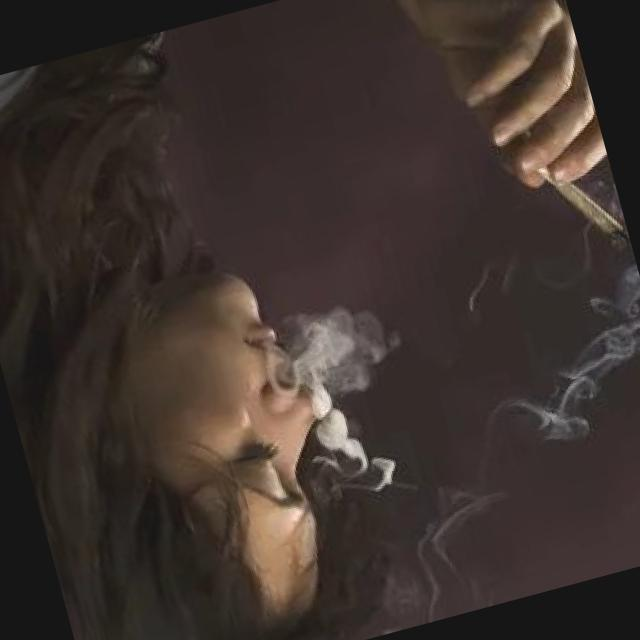cigarette: (514, 135, 634, 276)
